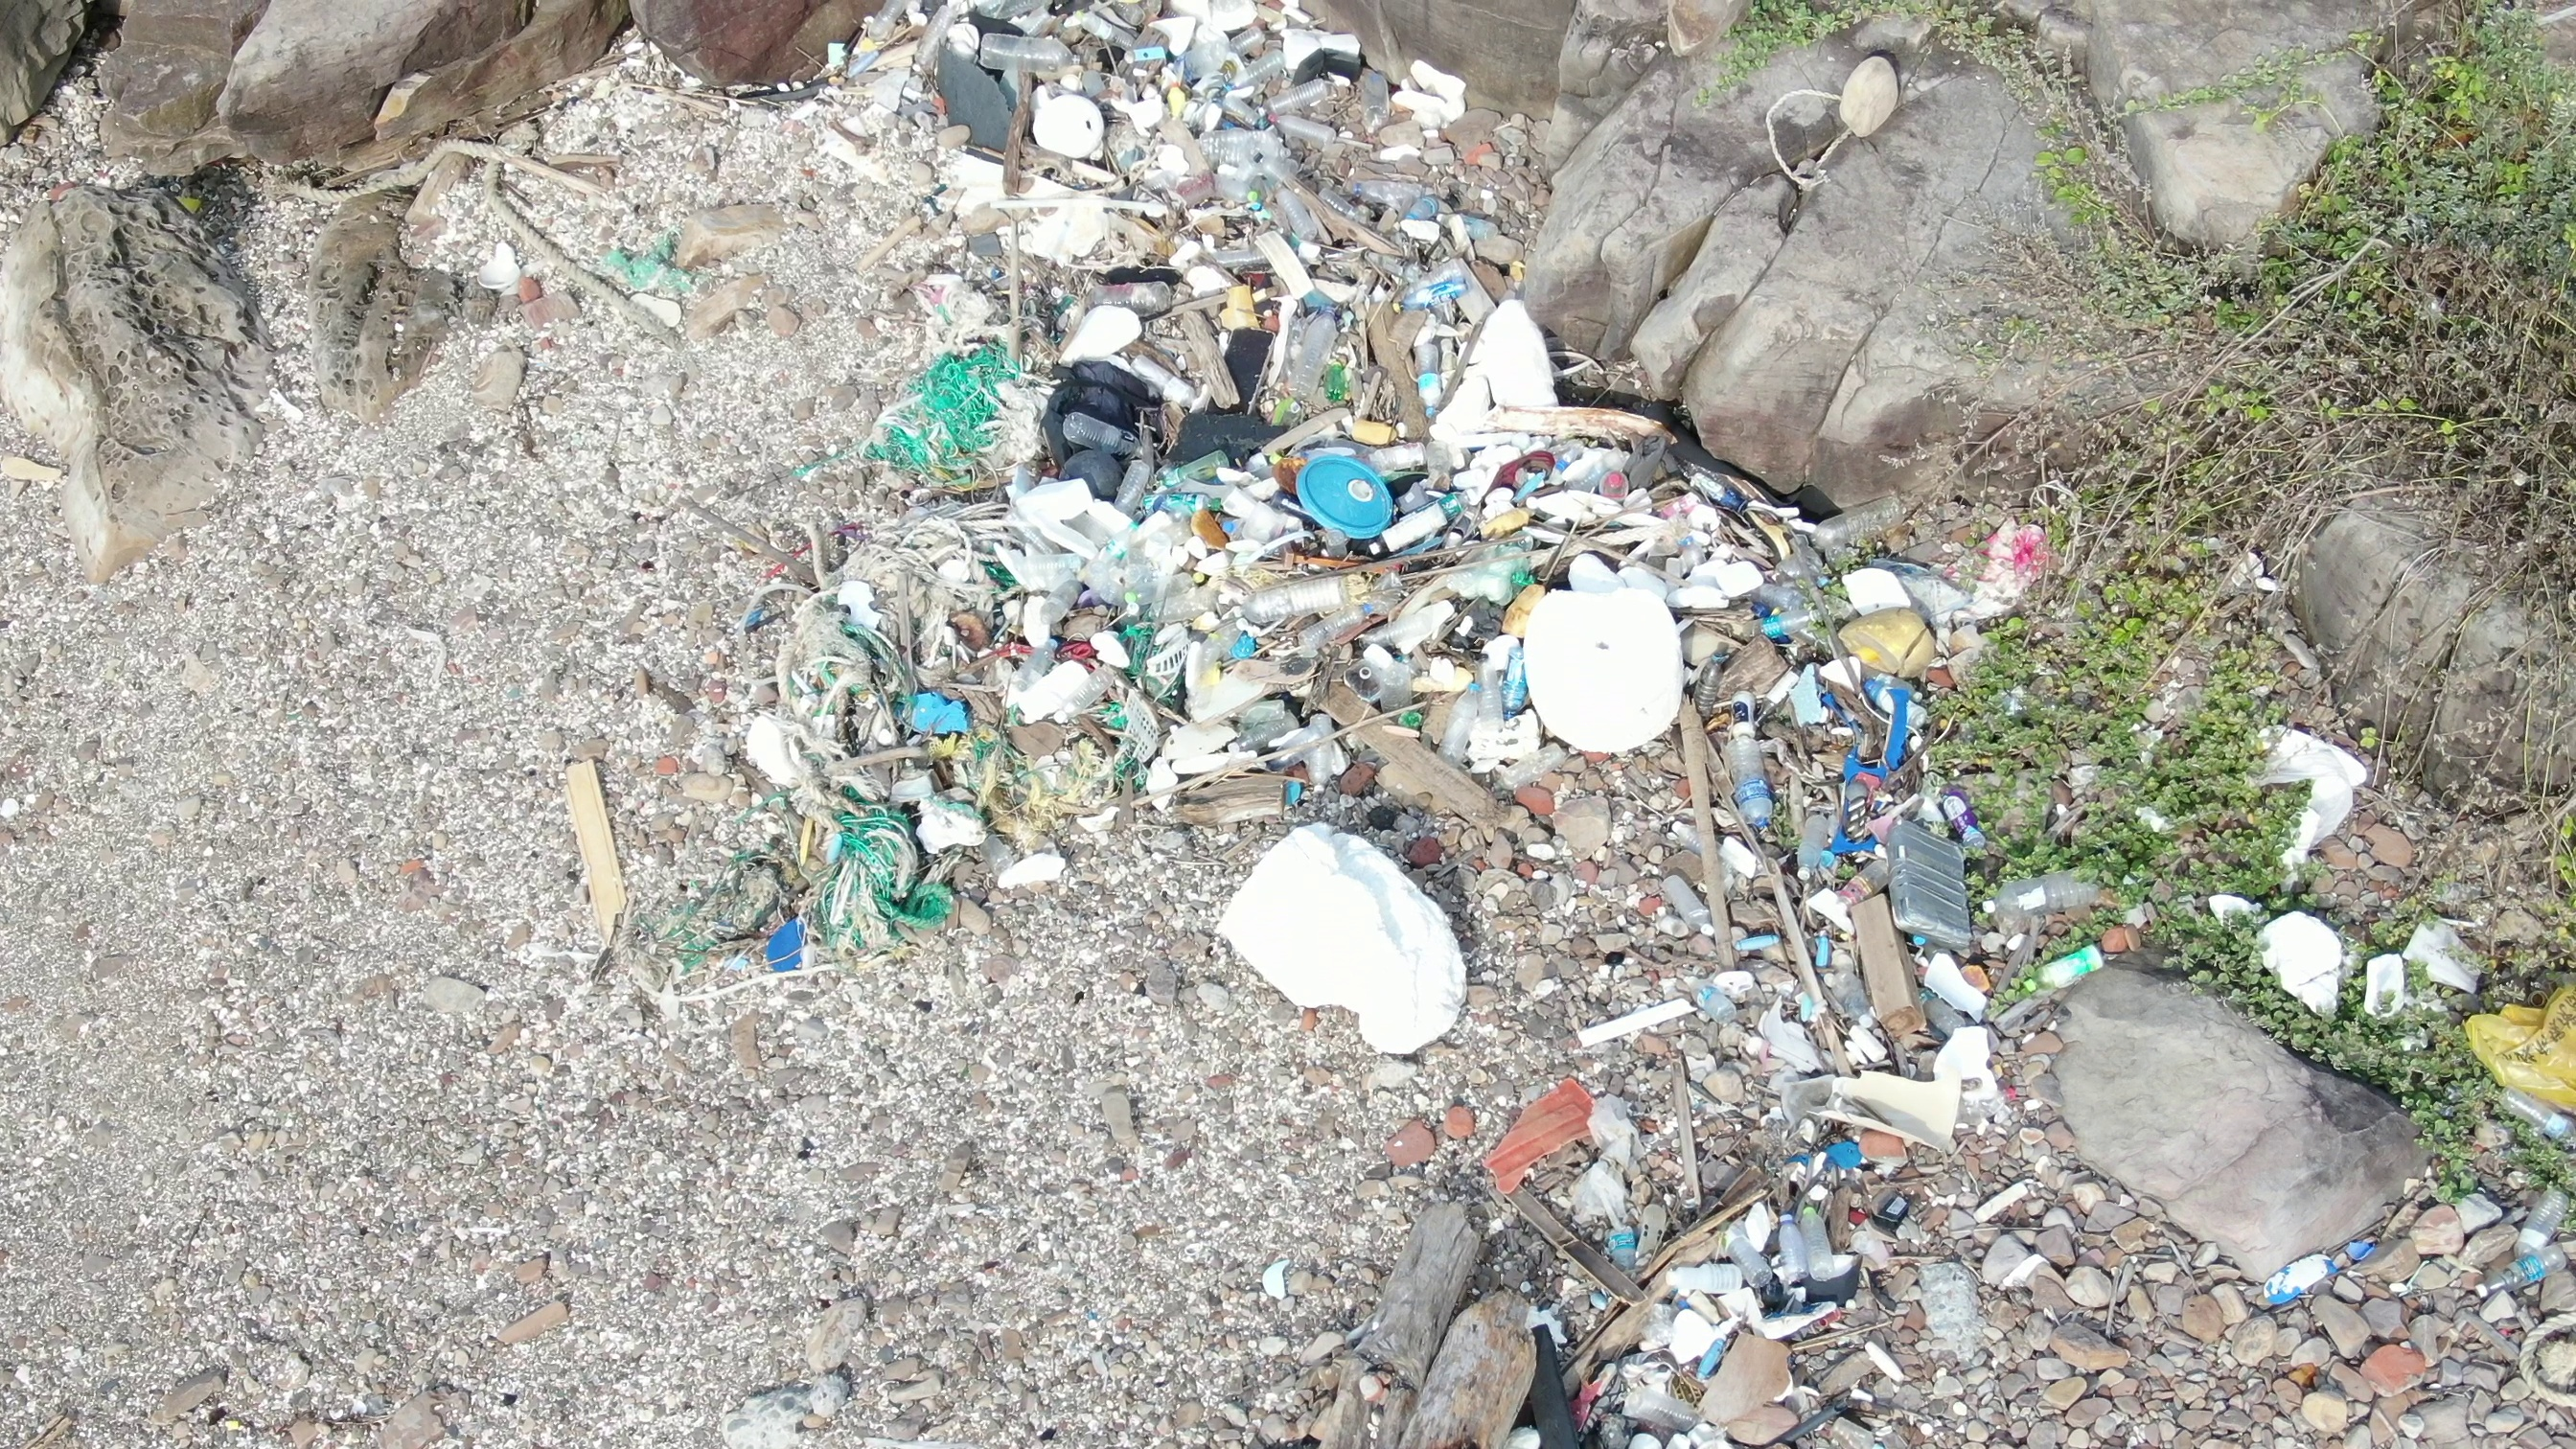bottle: (1721, 709, 1792, 847), (1967, 865, 2111, 925), (973, 18, 1095, 85), (1373, 488, 1488, 556), (1279, 297, 1343, 416), (1796, 488, 1907, 556), (2489, 1069, 2576, 1154), (2459, 1247, 2572, 1309), (1233, 568, 1359, 621), (1670, 968, 1760, 1040), (1435, 669, 1484, 777), (1067, 272, 1180, 317), (1943, 768, 1994, 860), (2029, 945, 2114, 1000), (1412, 329, 1456, 430), (1178, 127, 1290, 165), (906, 2, 954, 83), (1684, 644, 1734, 717), (1721, 1228, 1776, 1292), (1263, 78, 1345, 119), (1270, 184, 1327, 242), (1805, 1189, 1838, 1284), (1769, 1205, 1808, 1286), (1499, 635, 1529, 729), (1739, 607, 1826, 639)
garbage: (582, 467, 2081, 1051), (791, 9, 1723, 510), (2212, 715, 2576, 1426), (1488, 1031, 1971, 1449), (285, 117, 732, 359), (1755, 48, 1902, 193)
